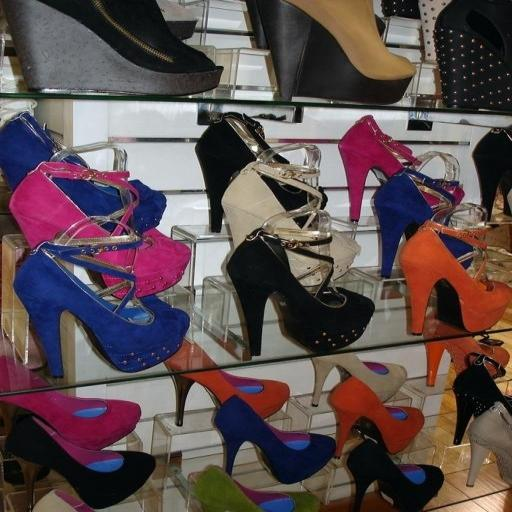heels: (13, 235, 190, 377), (9, 162, 191, 297), (3, 0, 222, 95), (0, 111, 166, 232), (222, 147, 360, 286), (226, 228, 375, 356), (257, 0, 416, 103), (5, 416, 155, 509), (195, 112, 308, 232), (0, 355, 141, 450), (399, 220, 512, 334), (164, 340, 290, 426), (214, 396, 336, 483), (373, 169, 471, 277), (434, 0, 512, 110), (338, 115, 417, 221), (328, 376, 424, 458), (347, 439, 444, 512), (191, 465, 320, 512), (453, 354, 512, 444), (311, 352, 407, 406), (425, 336, 510, 386), (466, 401, 512, 487), (472, 127, 512, 219), (32, 489, 94, 512), (381, 0, 420, 19)
